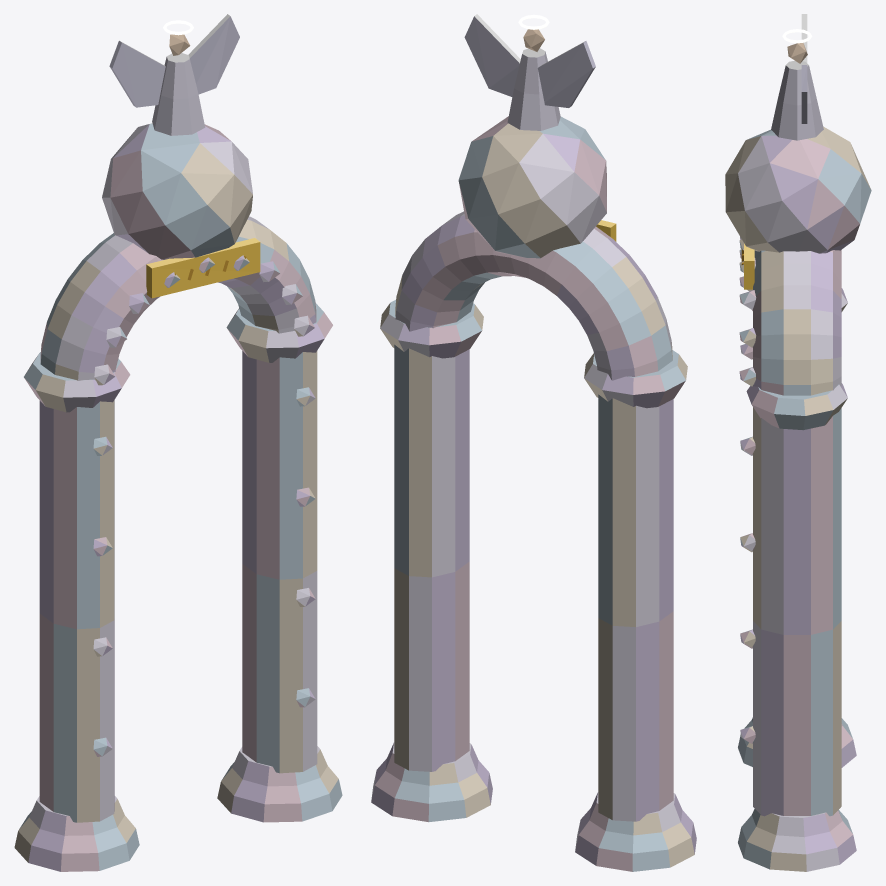
Rendered from pearlgate.glb.
3 views of the same model, side by side, from view 1: azimuth 30°, elevation 25°; view 2: azimuth 150°, elevation 25°; view 3: azimuth 270°, elevation 25° (orthographic). The views are drawn at different scales.
Parts seen in each view (by area): view 1: base, wingL_m, wingR_m; view 2: base, wingR_m, wingL_m; view 3: base, wingR_m.
Boxes of the visible parts, <box> form: base: <box>14,20,342,871</box>; wingL_m: <box>109,40,165,107</box>; wingR_m: <box>188,14,239,94</box>; base: <box>371,14,696,871</box>; wingR_m: <box>464,14,520,96</box>; wingL_m: <box>537,41,595,107</box>; base: <box>725,29,871,871</box>; wingR_m: <box>801,65,807,123</box>.
Bounding box in the file's own units: 1.94 × 4.76 × 0.8251.
